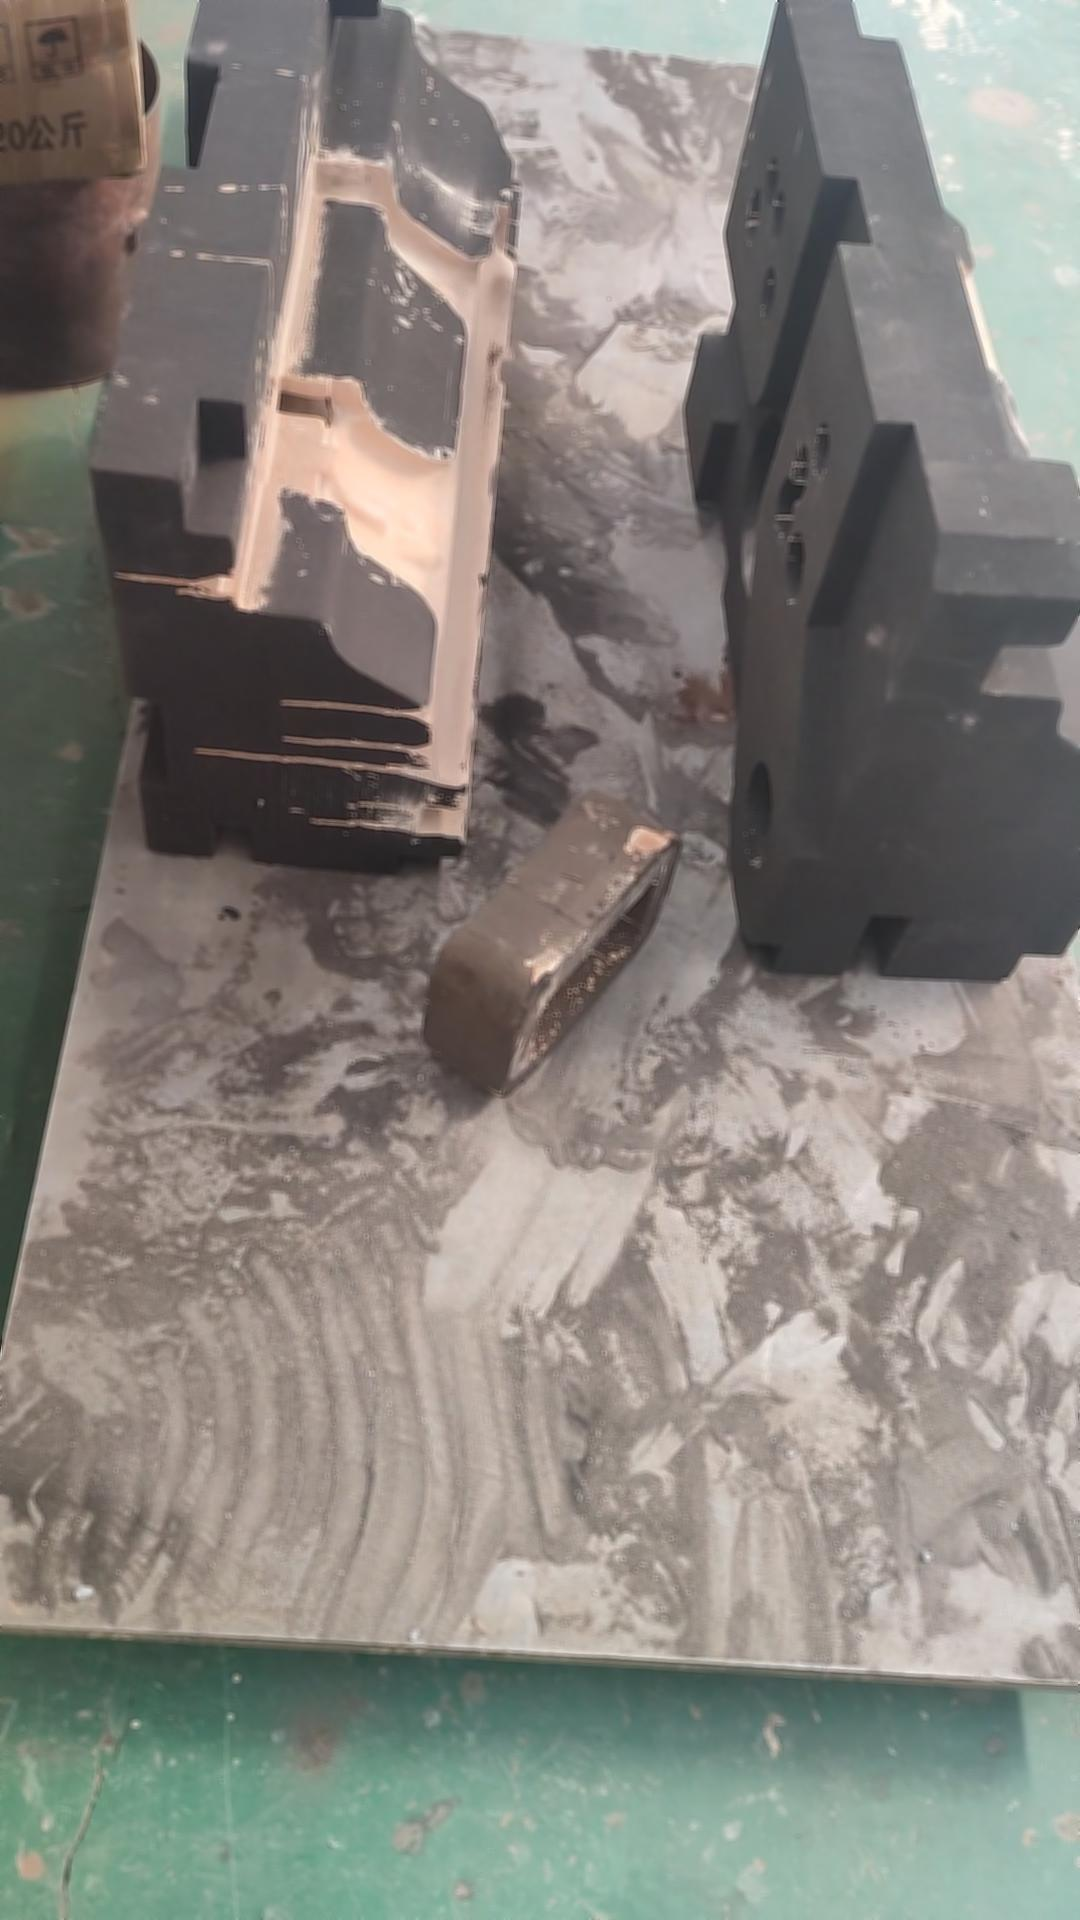pouring hole: (738, 762, 771, 872)
